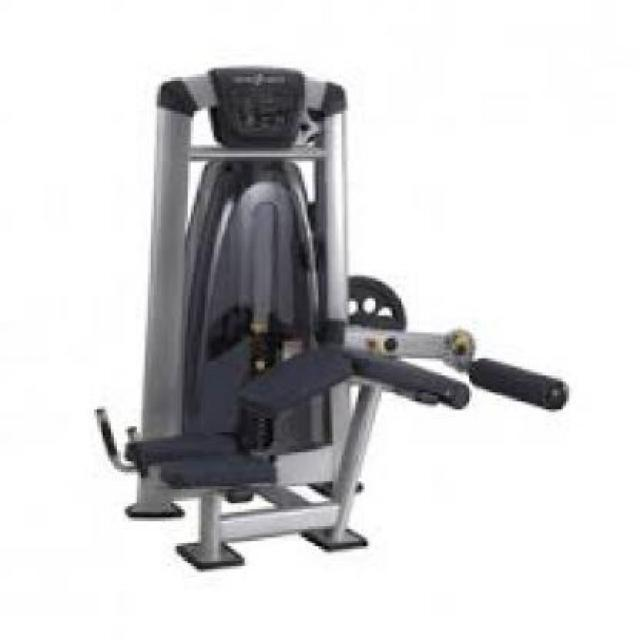reg curl machine: (89, 62, 571, 576)
